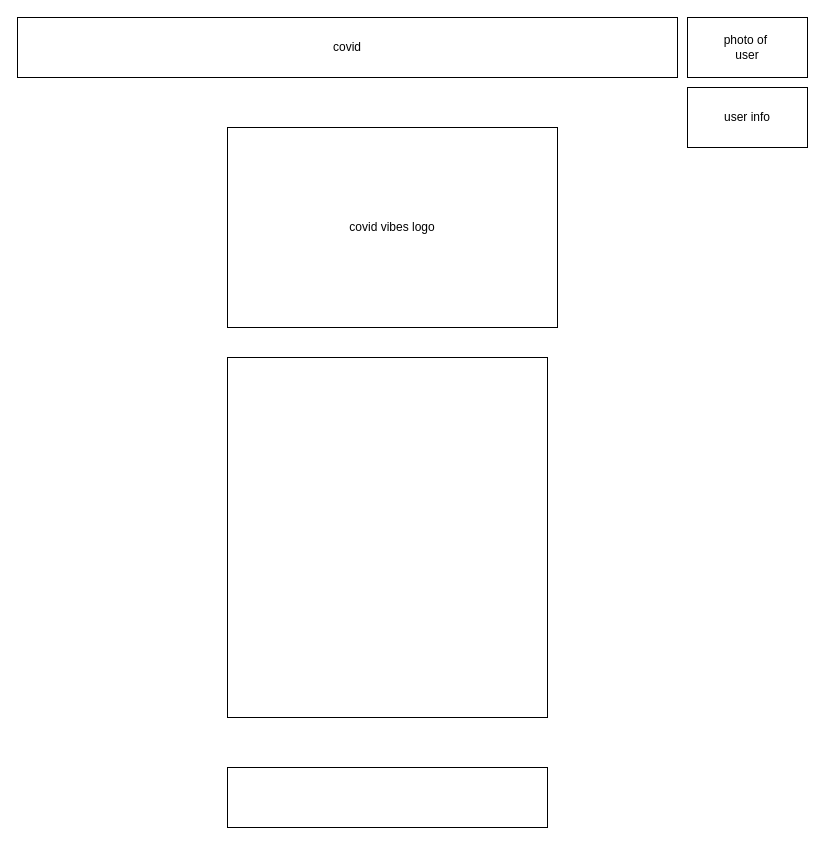
The diagram is 825 pixels wide and 845 high, and some of its shapes have lost their labels. The shapes that lost their labels are listed below. From the top down, each one's box as (x1, y1, x2, y2) in pixels, then its label:
(226, 356, 548, 718): list of reviews from user
(226, 766, 548, 828): possible implementation of update, delete reviews
